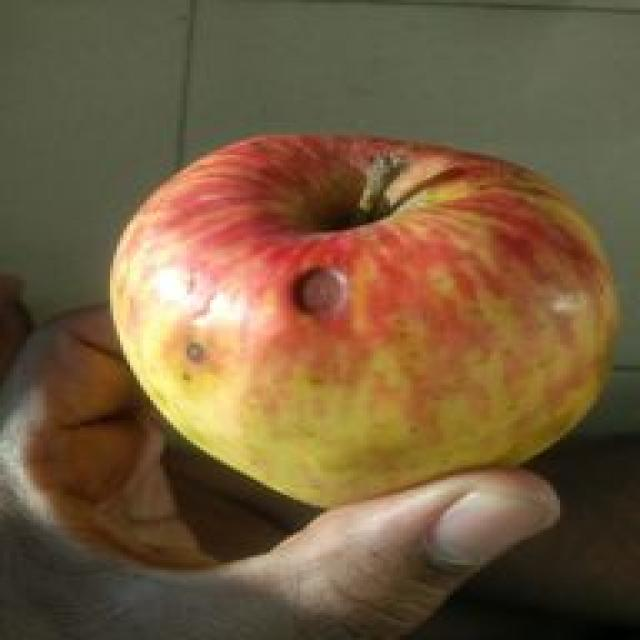Rotten_Apple: (85, 125, 627, 510)
